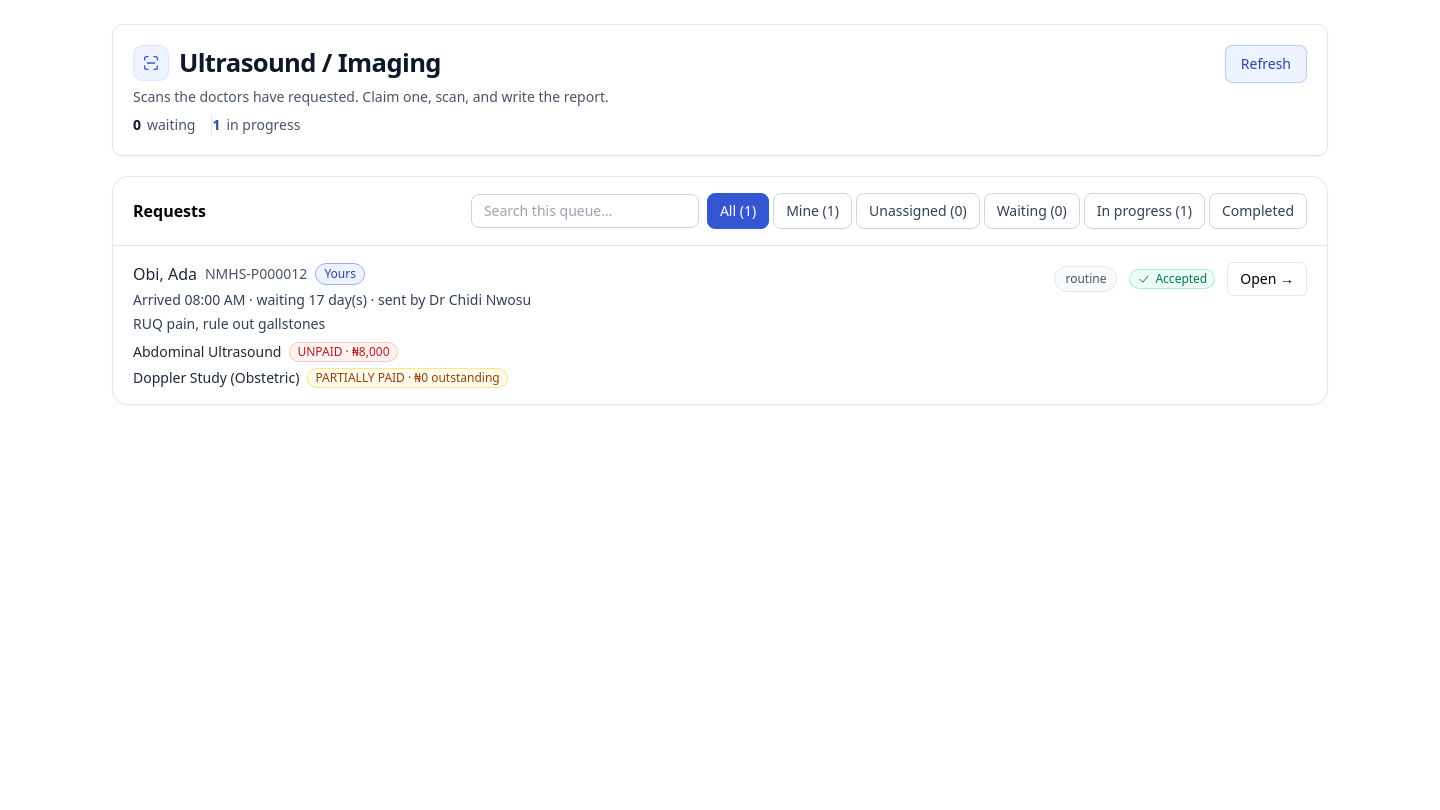
Test case: the radiology worklist › lists the examinations again on the request itself, beside the report form
Click the button "Open →" at (1267, 279), box [1227,262,1307,296]
(page scrolled)
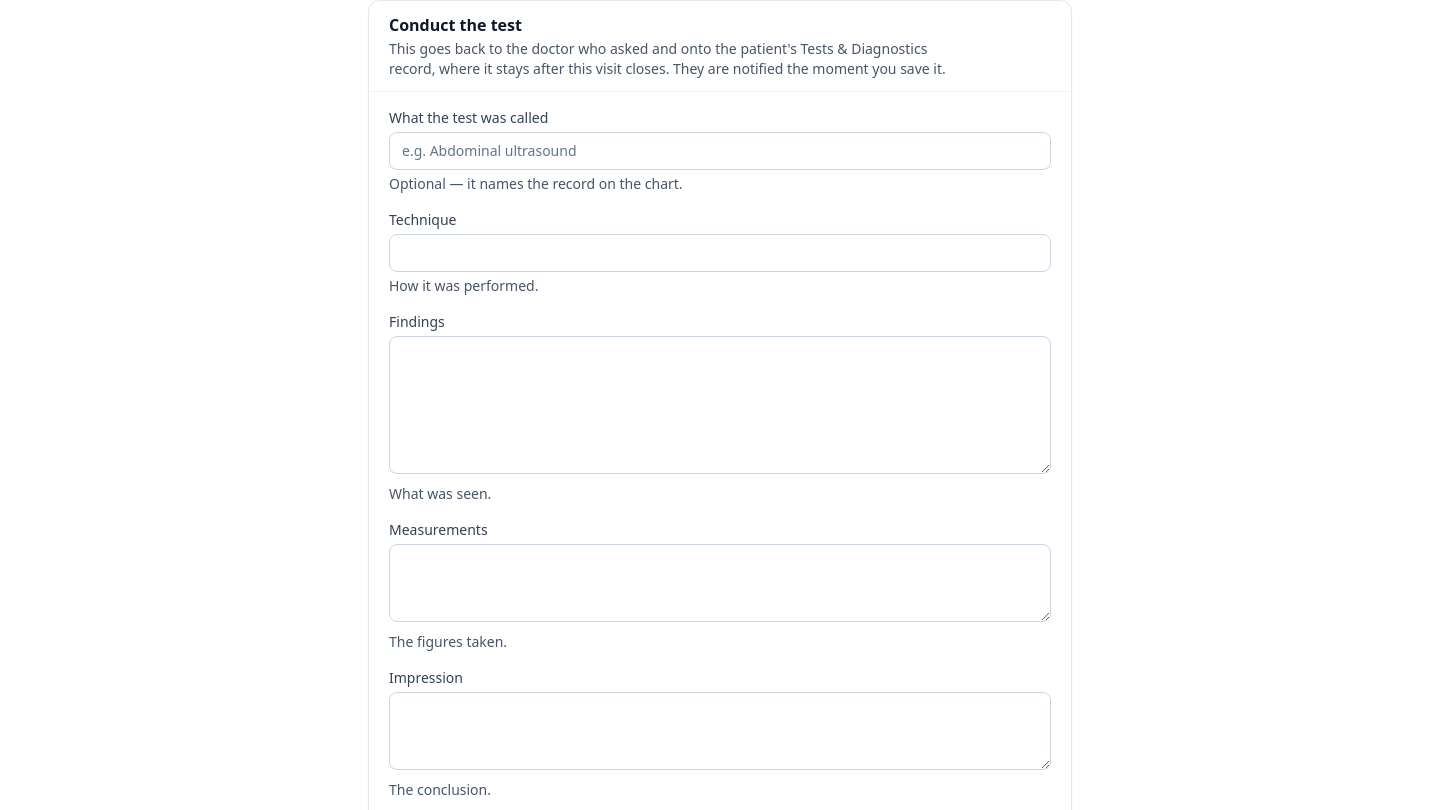
Now the text box labelled "Findings" is shown, box [389,336,1051,474]
